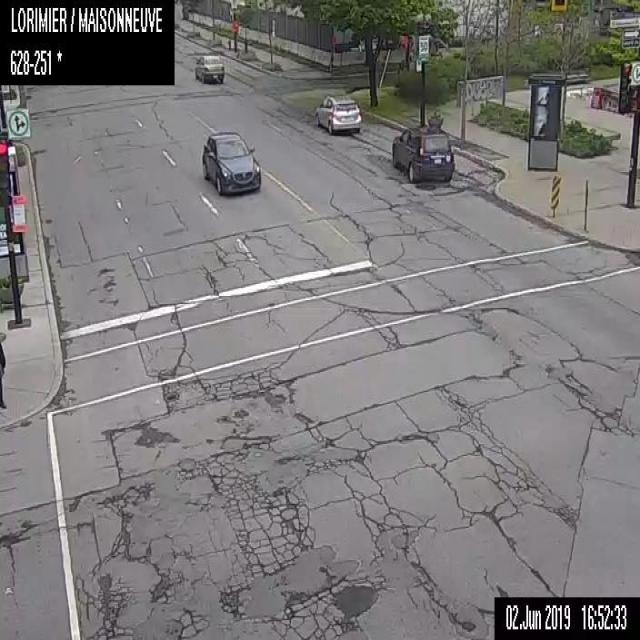pedestrian: (0, 337, 6, 407)
vehicle: (201, 130, 260, 194), (390, 126, 454, 183), (314, 91, 362, 133), (194, 52, 223, 83)
